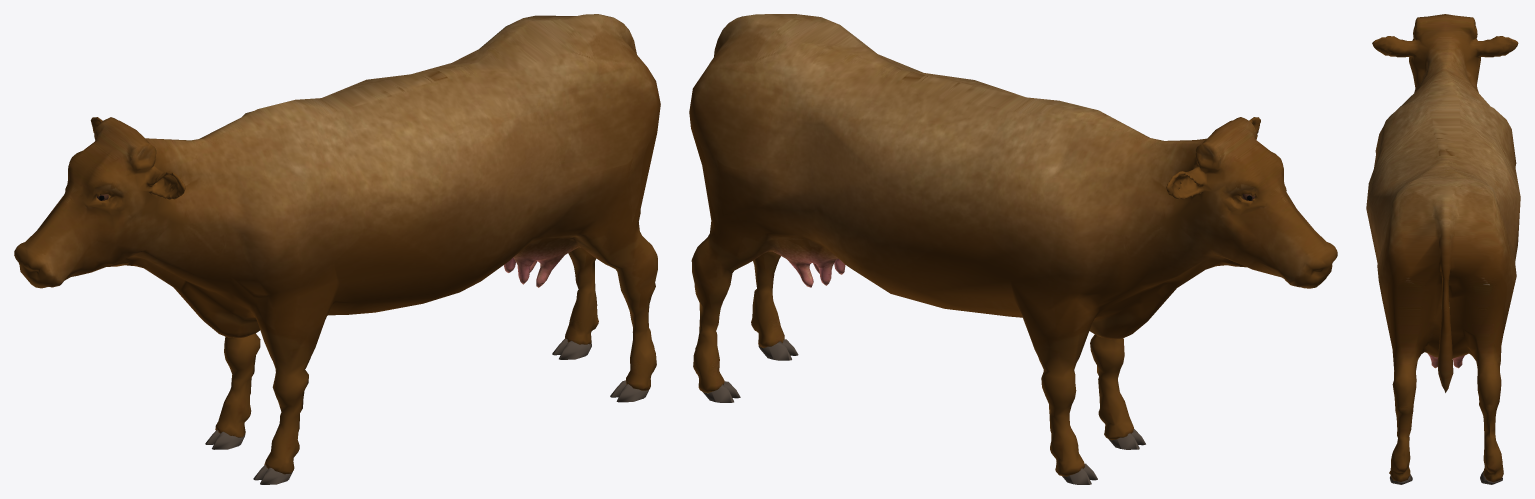
Rendered from Cow Brown.fbx.
3 renders of one model, left to right at view 1: azimuth 30°, elevation 25°; view 2: azimuth 150°, elevation 25°; view 3: azimuth 270°, elevation 25°, orthographic. The views are drawn at different scales.
Parts seen in each view (by area): view 1: COWBODY; view 2: COWBODY; view 3: COWBODY.
Boxes of the visible parts, left/top/right/bottom form: COWBODY: left=14, top=14, right=660, bottom=474; COWBODY: left=689, top=14, right=1337, bottom=476; COWBODY: left=1366, top=14, right=1520, bottom=482.
Size of the model in its own units: 1220 by 684 by 338.
3 materials, 2 textured.
